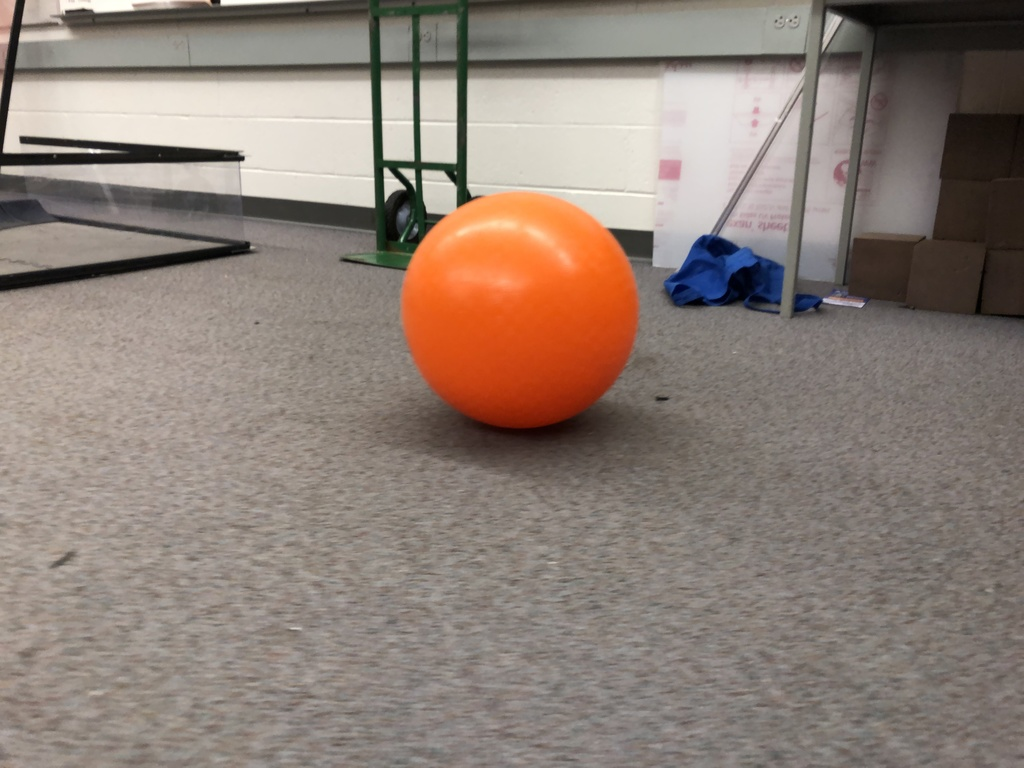cargo: (389, 181, 640, 440)
